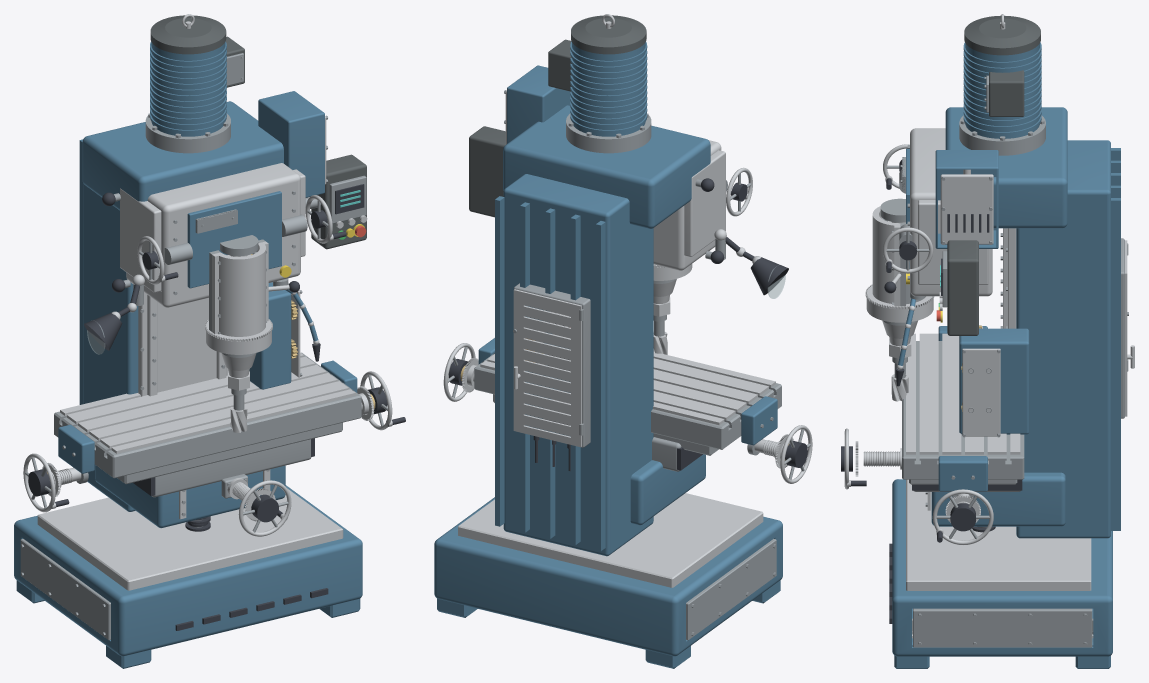
The model's file is fresadora-04-1.glb.
The picture shows the model from 3 angles, left to right: view 1: azimuth 30°, elevation 25°; view 2: azimuth 150°, elevation 25°; view 3: azimuth 270°, elevation 25°; orthographic projection.
Parts seen in each view (by area): view 1: base__1, base__2, mesa__3, cabecote__3, coluna__1, cabecote__1, mesa__2, coluna__2, cabecote__2, tampa_correias__1, joelho__1, tampa_fuso__1 (+24 smaller); view 2: coluna__1, base__1, cabecote__3, base__2, porta_armario__1, mesa__3, tampas_base__1, motor__1, coluna__49, coluna__53, mesa__2, joelho__1 (+17 smaller); view 3: coluna__1, base__2, base__1, cabecote__3, tampas_base__10, mesa__3, caixa_avanco__1, joelho__1, mesa__2, tampa_correias__2, tampa_caixa_avanco__1, coluna__53 (+23 smaller).
Boxes of the visible parts, <box> form: base__1: <box>14,485,362,656</box>; base__2: <box>37,488,343,590</box>; mesa__3: <box>60,352,355,453</box>; cabecote__3: <box>82,101,283,210</box>; coluna__1: <box>83,183,138,511</box>; cabecote__1: <box>126,163,300,307</box>; mesa__2: <box>54,352,361,478</box>; coluna__2: <box>138,292,228,396</box>; cabecote__2: <box>187,191,281,288</box>; tampa_correias__1: <box>258,91,324,197</box>; joelho__1: <box>95,465,285,528</box>; tampa_fuso__1: <box>216,242,265,336</box>; coluna__1: <box>503,174,653,556</box>; base__1: <box>434,497,782,656</box>; cabecote__3: <box>503,105,710,228</box>; base__2: <box>458,493,763,587</box>; porta_armario__1: <box>513,289,581,447</box>; mesa__3: <box>480,352,775,425</box>; tampas_base__1: <box>686,539,776,640</box>; motor__1: <box>572,42,645,136</box>; coluna__49: <box>596,221,605,551</box>; coluna__53: <box>495,196,504,526</box>; mesa__2: <box>474,353,781,449</box>; joelho__1: <box>630,454,705,525</box>; coluna__1: <box>1016,140,1110,538</box>; base__2: <box>906,479,1091,590</box>; base__1: <box>892,479,1112,656</box>; cabecote__3: <box>945,107,1067,228</box>; tampas_base__10: <box>913,608,1092,647</box>; mesa__3: <box>906,333,1020,454</box>; caixa_avanco__1: <box>959,328,1029,434</box>; joelho__1: <box>931,472,1065,526</box>; mesa__2: <box>902,341,1024,479</box>; tampa_correias__2: <box>940,174,993,244</box>; tampa_caixa_avanco__1: <box>962,348,1000,436</box>; coluna__53: <box>1111,198,1120,530</box>.
Size of the model in its own units: 2.13 by 3.34 by 1.49.
